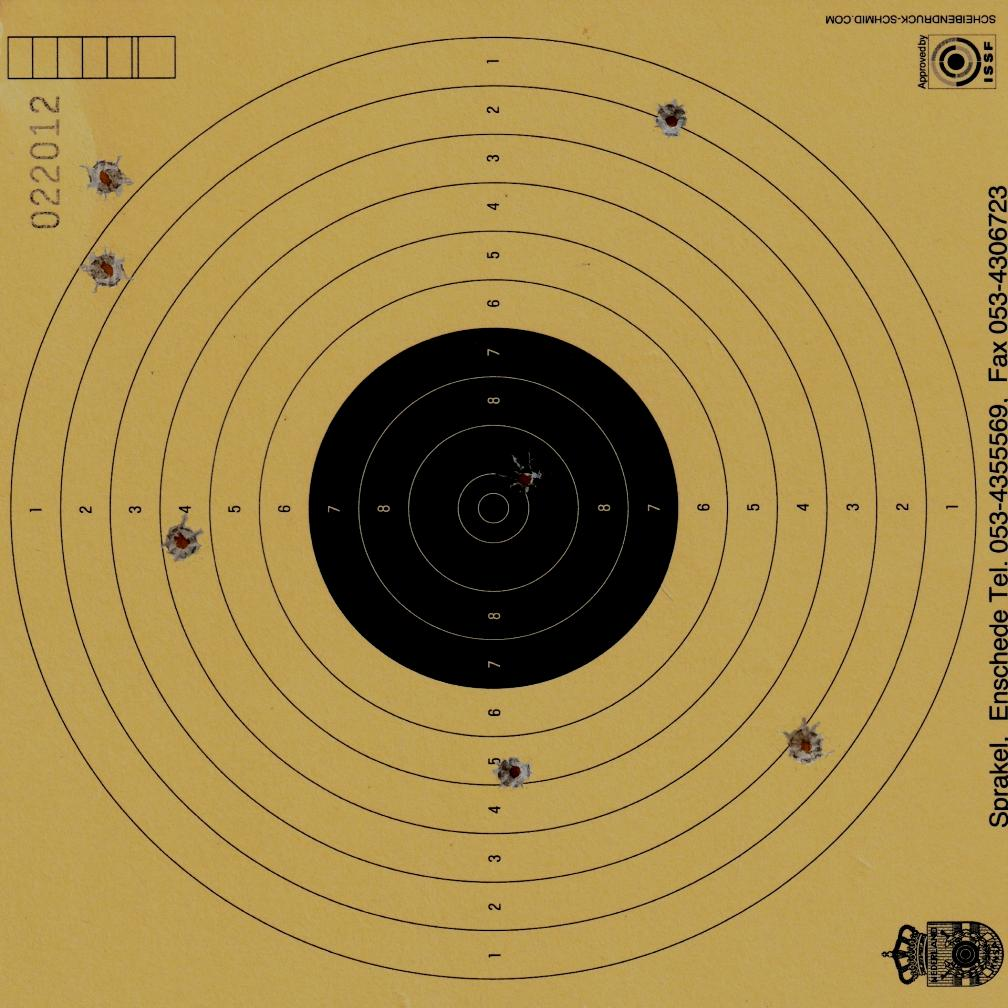0: (80, 153, 133, 199)
10: (506, 456, 547, 496)
2: (82, 249, 136, 293), (653, 98, 692, 140)
3: (782, 715, 834, 766)
4: (157, 520, 205, 564)
5: (492, 757, 534, 788)
Target: (4, 33, 982, 982)
black_contour: (310, 328, 679, 689)
